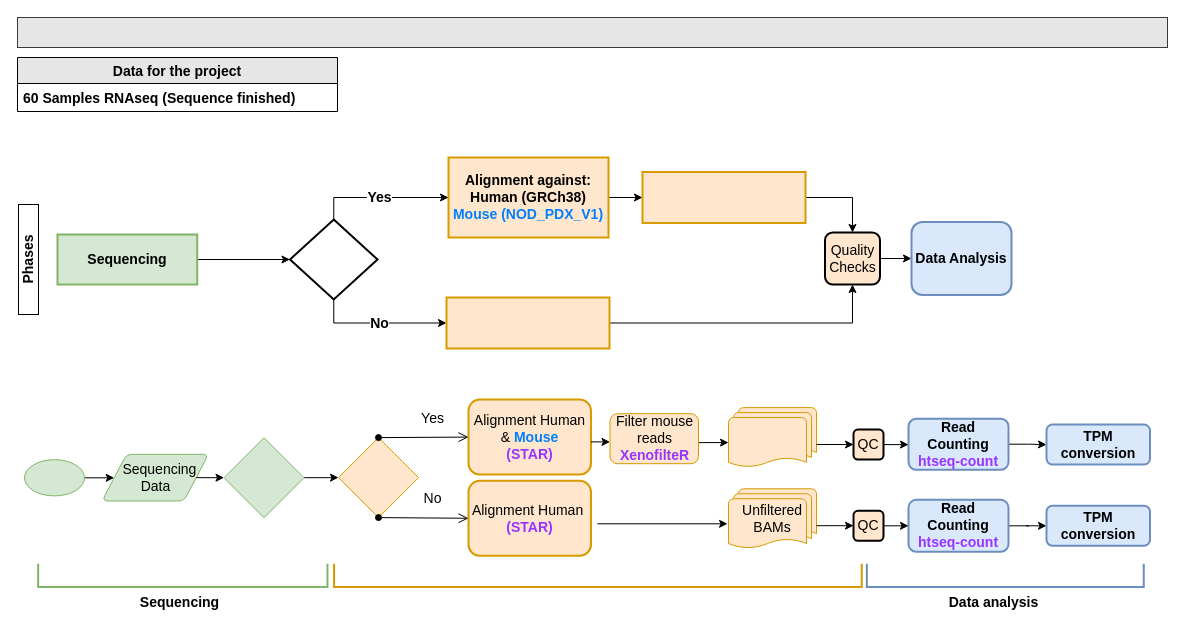
This 1185x630 diagram has some shape labels left out. The box of each missing label's shape, as (x1, y1, x2, y2) in pixels:
Alignment against: Human (GRCh38): (445, 296, 610, 349)
Data pre-processing: (333, 562, 862, 588)
Filtered BAMs: (728, 407, 816, 468)
Is PDX?: (338, 437, 418, 518)
Overview of the analysis pipelines for RNAseq: (16, 16, 1168, 48)
PDX sample: (288, 218, 378, 300)
Remove Mouse reads: (641, 170, 806, 224)
RNA: (223, 437, 304, 518)
Start: (24, 459, 84, 496)
